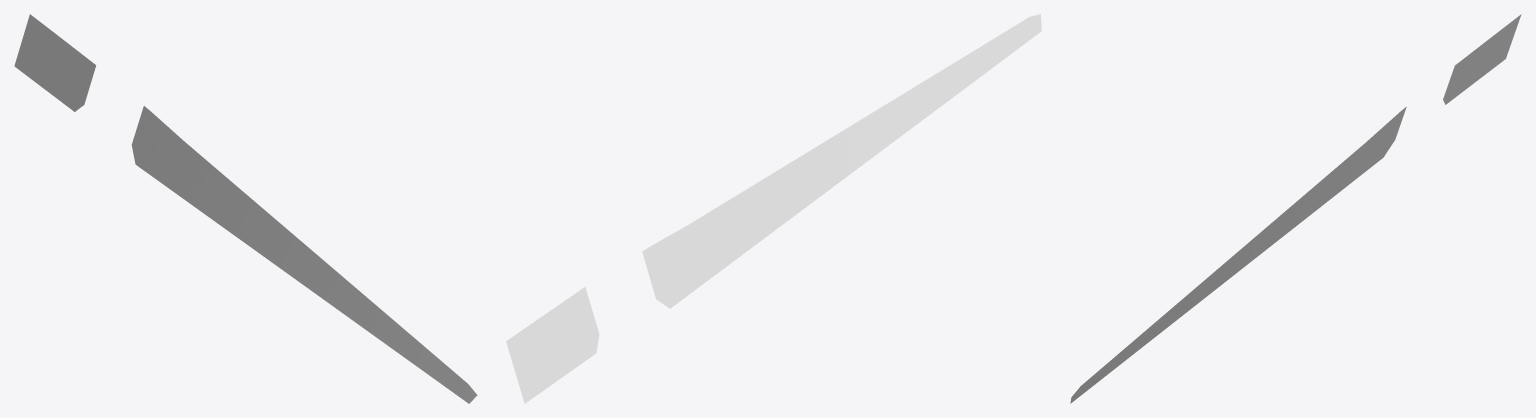
3 renders of one model, left to right at view 1: azimuth 30°, elevation 25°; view 2: azimuth 150°, elevation 25°; view 3: azimuth 330°, elevation 25°, orthographic. The views are drawn at different scales.
Bounding box in the file's own units: 0.019 × 0.0731 × 0.9269.
Materials: 1 (1 with a texture image).
